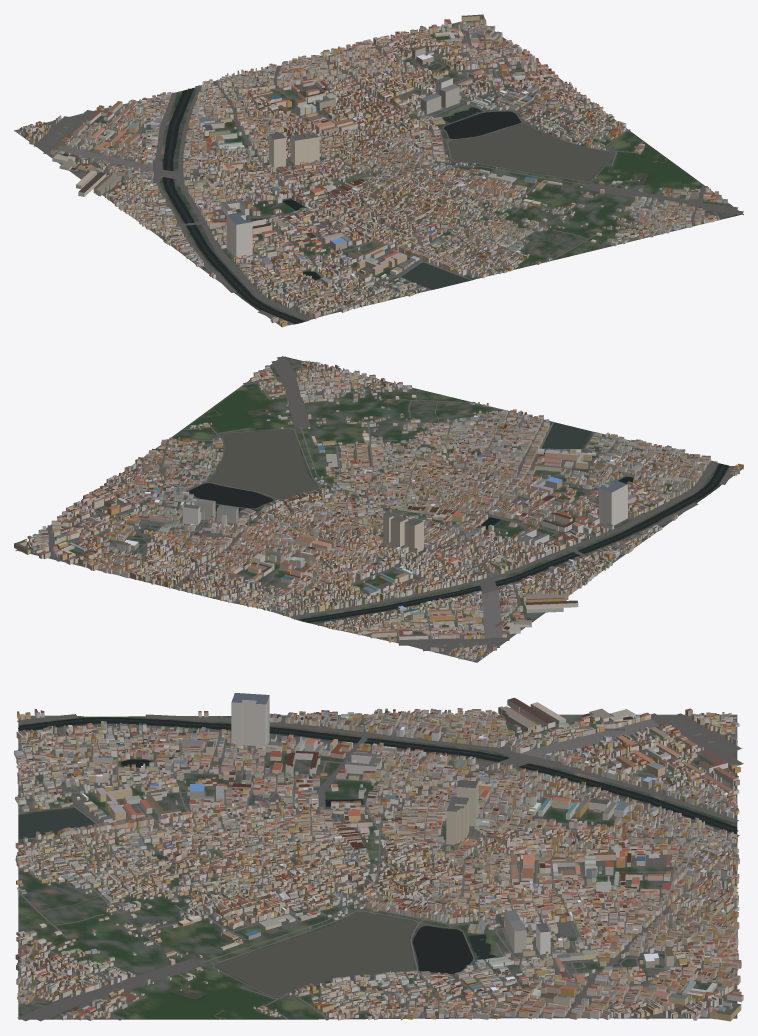
3 renders of one model, top to bottom at view 1: azimuth 30°, elevation 25°; view 2: azimuth 150°, elevation 25°; view 3: azimuth 270°, elevation 25°, orthographic. The views are drawn at different scales.
Visible parts, largest first — view 1: walls, roofs, ground, roads, water; view 2: walls, roofs, ground, roads, water; view 3: walls, roofs, ground, roads, water.
Boxes of the visible parts, box(x1,y1,x2,y2) form: walls: box(18, 16, 727, 327); roofs: box(19, 14, 727, 323); ground: box(14, 20, 743, 326); roads: box(16, 22, 743, 325); water: box(162, 88, 647, 323); walls: box(14, 361, 743, 661); roofs: box(15, 360, 743, 659); ground: box(15, 356, 743, 662); roads: box(27, 356, 735, 661); water: box(185, 407, 728, 622); walls: box(14, 695, 743, 1021); roofs: box(14, 693, 742, 1016); ground: box(18, 714, 737, 1019); roads: box(17, 713, 743, 1021); water: box(18, 717, 738, 999).
Size of the model in its own units: 1470 by 106 by 1423.
